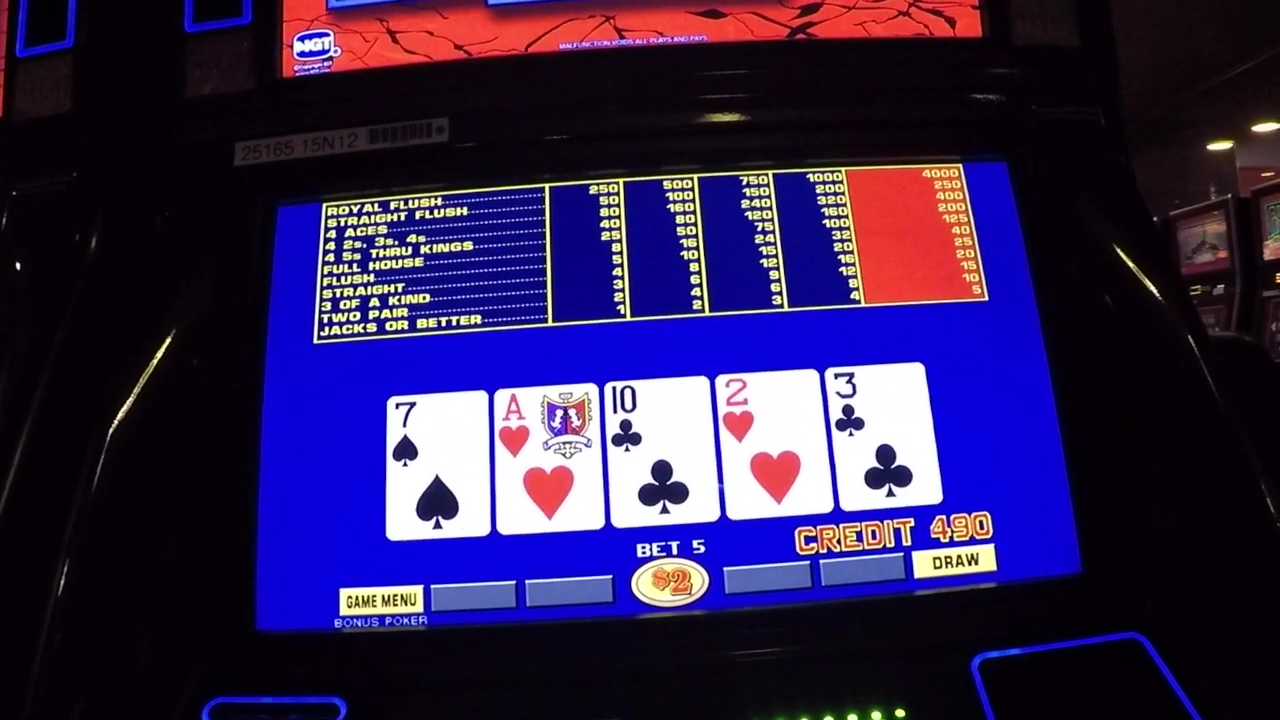C3: (834, 370, 924, 437)
CT: (608, 383, 710, 455)
H2: (721, 381, 820, 447)
HA: (498, 392, 597, 462)
S7: (390, 398, 486, 469)
